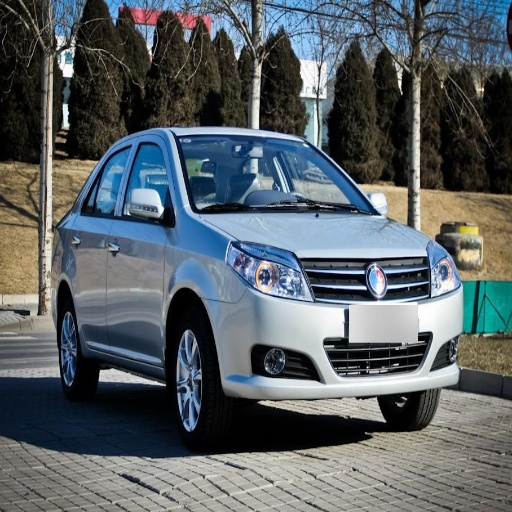front_bumper: (208, 250, 468, 400)
front_left_light: (430, 249, 460, 298)
front_right_door: (107, 135, 172, 360)
front_right_light: (232, 243, 313, 301)
hood: (198, 214, 436, 262)
